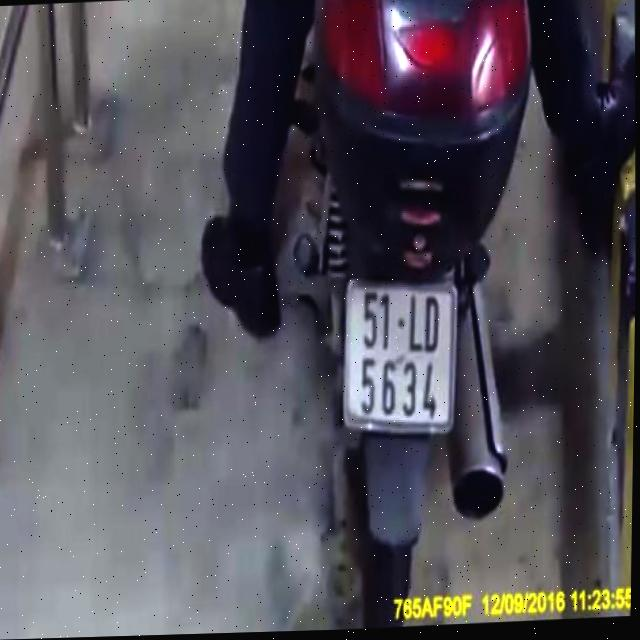motorcycle: (292, 0, 554, 625)
plate: (333, 265, 474, 451)
